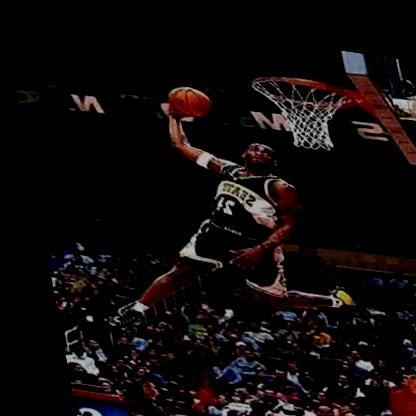basketball: (162, 78, 212, 114)
rim: (247, 63, 356, 146)
